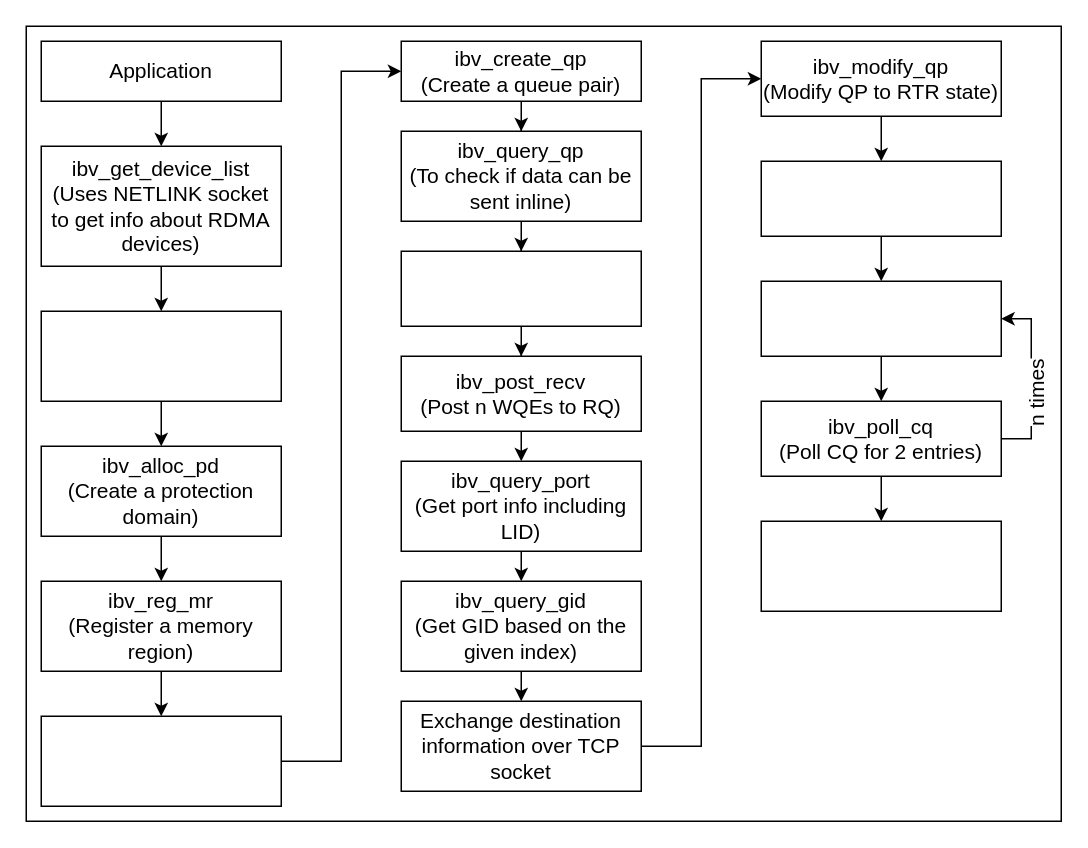
This 1088x848 diagram has some shape labels left out. The centre of each missing label's shape, as x and y in pixels:
"Destroy resources" goes at pixel 880 565.
"ibv_create_cq (Create a completion queue)" goes at pixel 160 760.
"ibv_modify_qp (Modify QP to INIT state)" goes at pixel 520 288.
"ibv_modify_qp (Modify QP to RTS state)" goes at pixel 880 198.
"ibv_open_device (Creates an Infiniband context)" goes at pixel 160 355.
"ibv_post_send (Post WQE to SQ)" goes at pixel 880 318.
